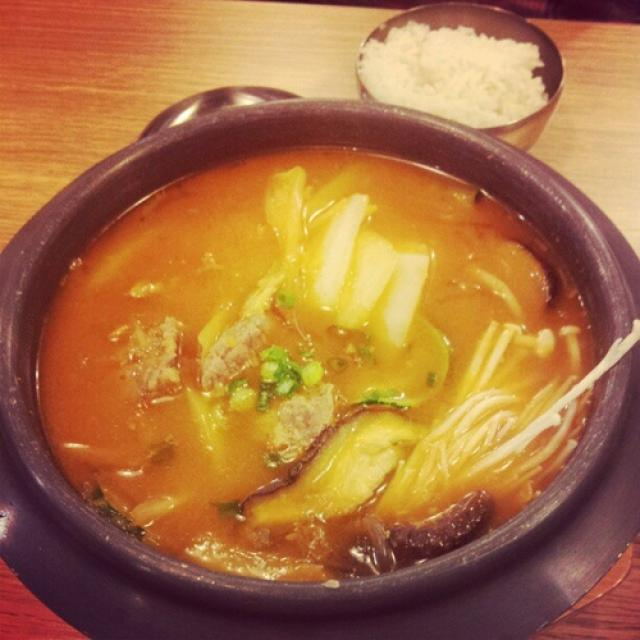汤锅炖物: (13, 77, 626, 596)
